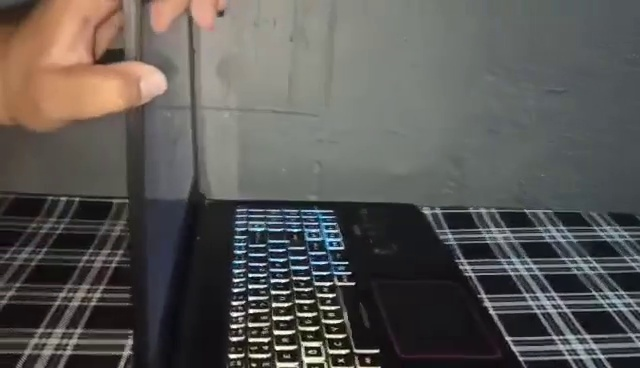laptop: (118, 1, 520, 361)
